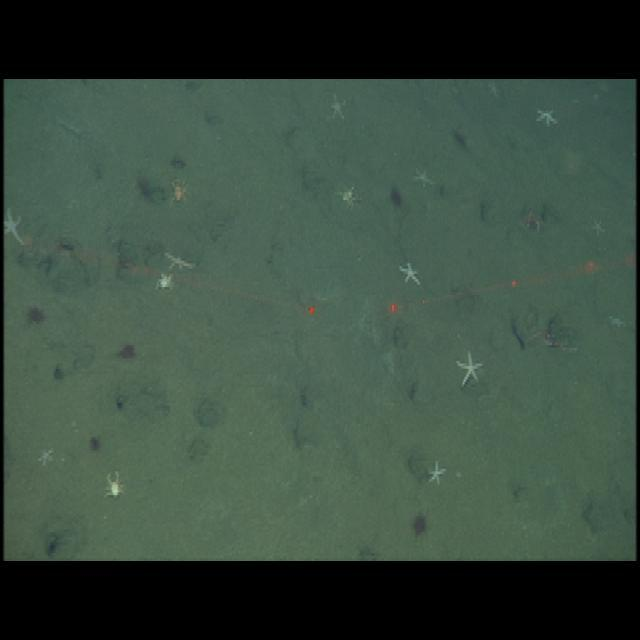Brittle Star: (527, 326, 579, 360)
Not Brittle Star: (455, 348, 485, 390), (3, 206, 25, 252), (163, 248, 197, 276), (397, 260, 423, 288), (411, 164, 436, 192), (426, 458, 447, 488), (534, 106, 559, 130), (328, 94, 348, 122), (36, 444, 56, 469), (589, 216, 607, 240)
